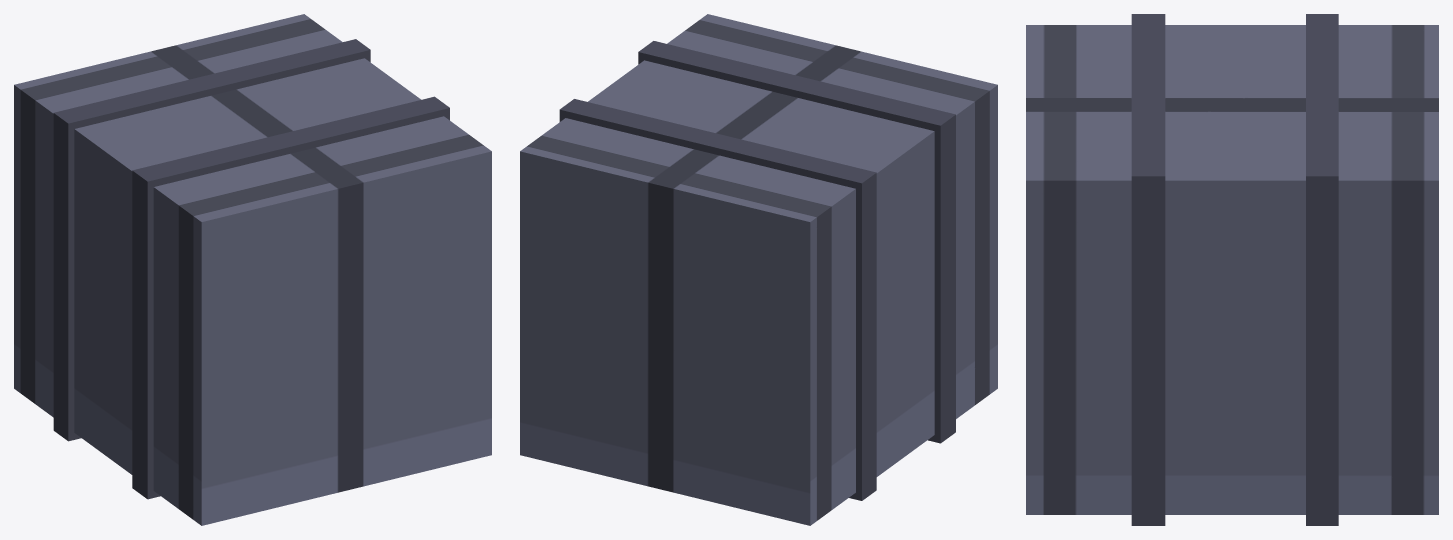
File: AddonBigBox.fbx
3 renders of one model, left to right at view 1: azimuth 30°, elevation 25°; view 2: azimuth 150°, elevation 25°; view 3: azimuth 270°, elevation 25°, orthographic. The views are drawn at different scales.
Parts seen in each view (by area): view 1: HangarHall.001; view 2: HangarHall.001; view 3: HangarHall.001.
Part boxes in pixels (x1,y1,x2,y2): HangarHall.001: [14, 14, 491, 525]; HangarHall.001: [520, 14, 997, 525]; HangarHall.001: [1026, 14, 1438, 525].
Bounding box in the file's own units: 2.08 × 2.09 × 2.24.
